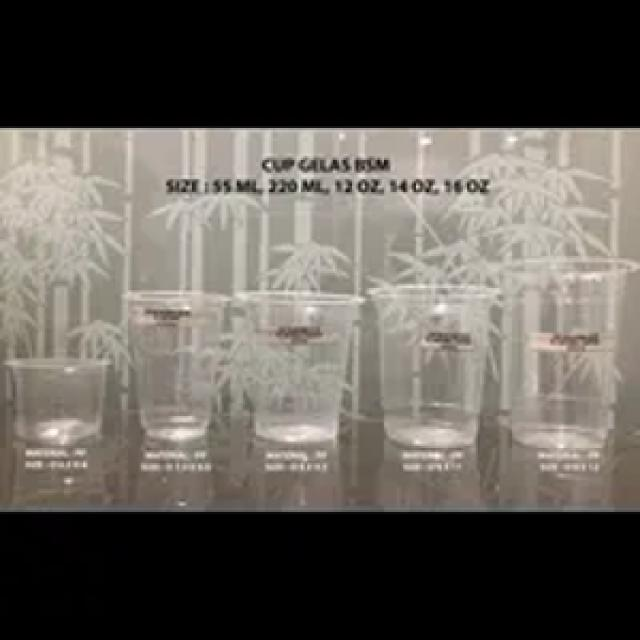plastic cup: (497, 250, 640, 465), (361, 278, 504, 452), (230, 284, 365, 454), (115, 284, 233, 452), (2, 350, 117, 452)
